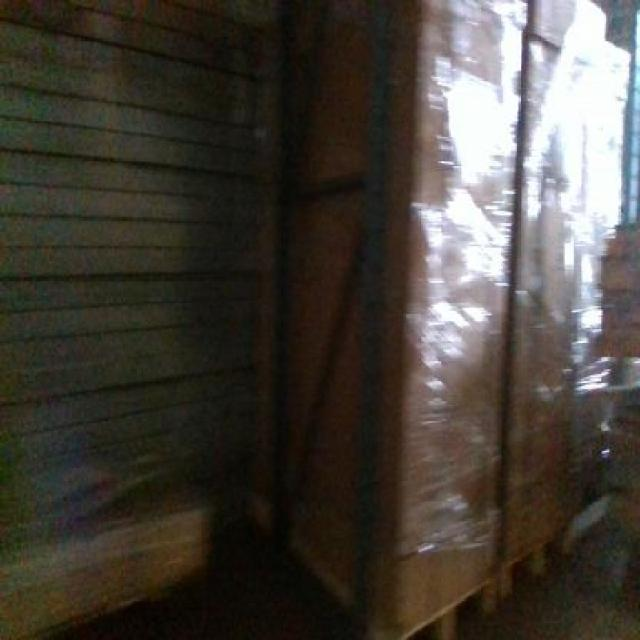pallets: (278, 0, 626, 637)
